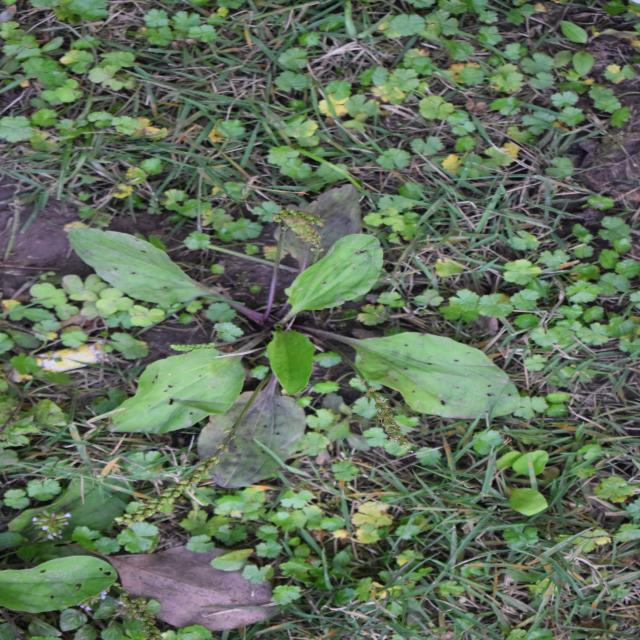plantain: (168, 82, 392, 486)
